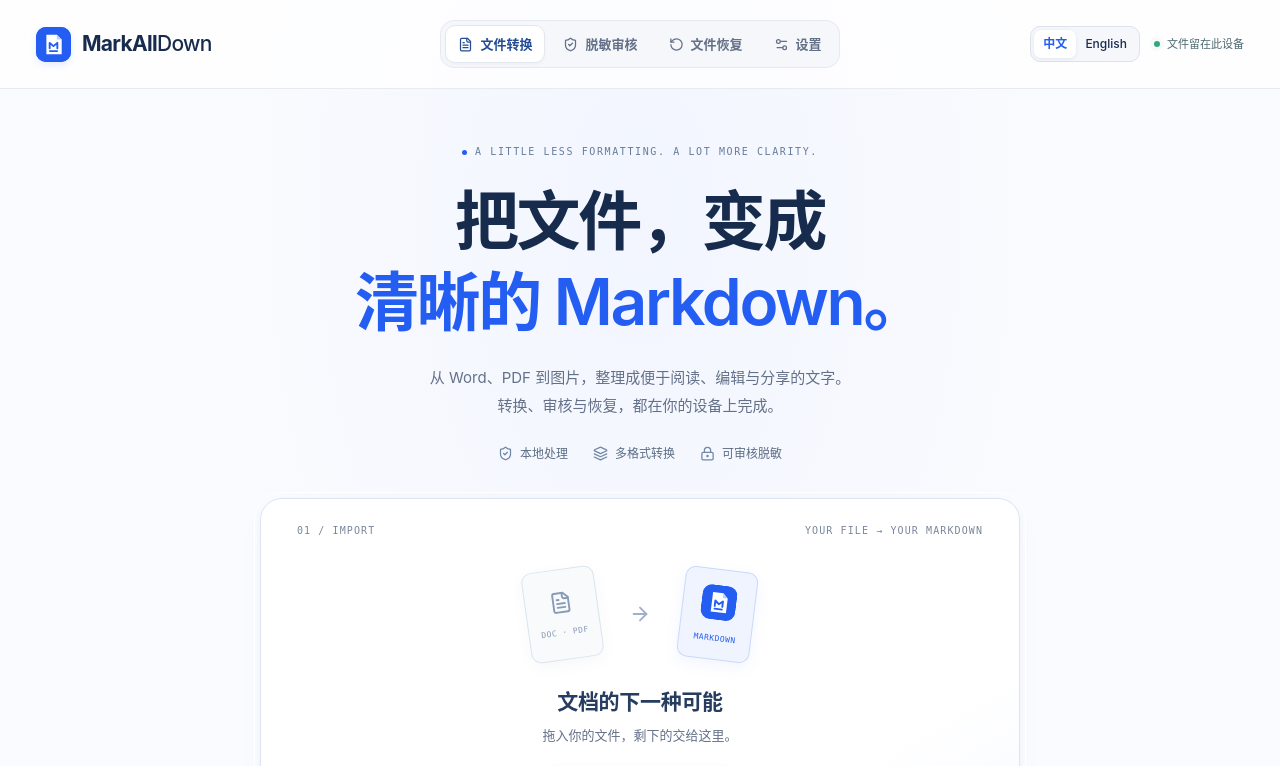
Test: shows startup failure and lets the user retry preparation successfully
What coordinates should you click on to do the following:
click the button "设置"
I would click on:
 (798, 44)
Its box is [760, 25, 834, 63].
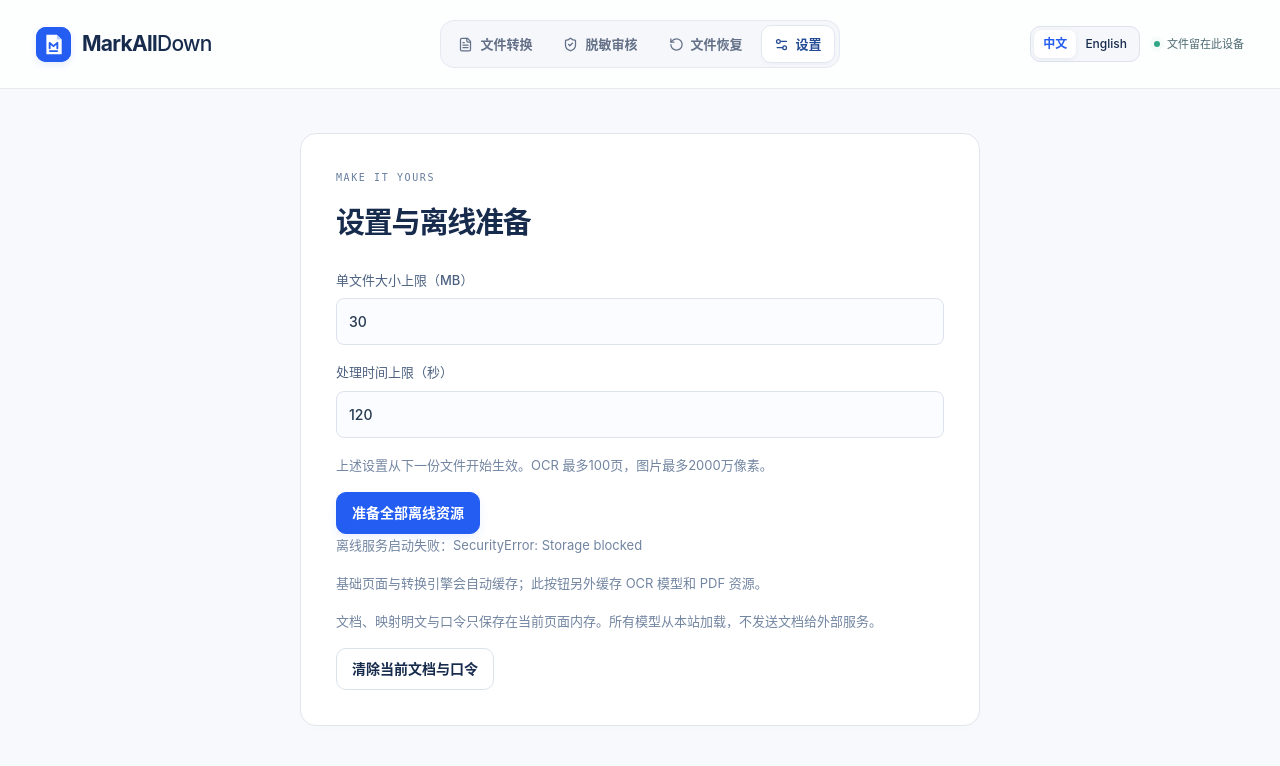
Now the text "离线服务启动失败：SecurityError: Storage blocked" is shown, box [336, 537, 642, 553]
What coordinates should you click on to do the following:
click the button "准备全部离线资源"
I would click on:
 (408, 513)
Its box is [336, 492, 480, 534].
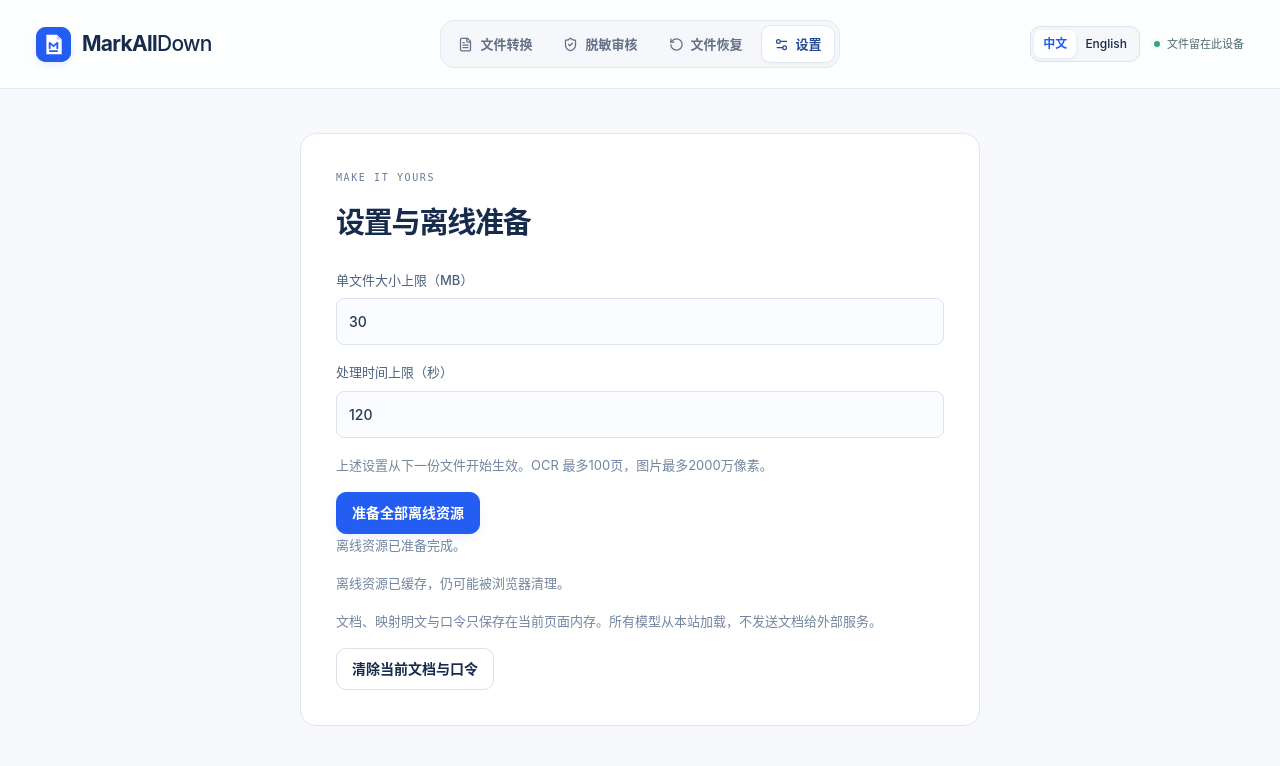
Now the text "离线资源已准备完成。" is shown, box [336, 537, 466, 553]
